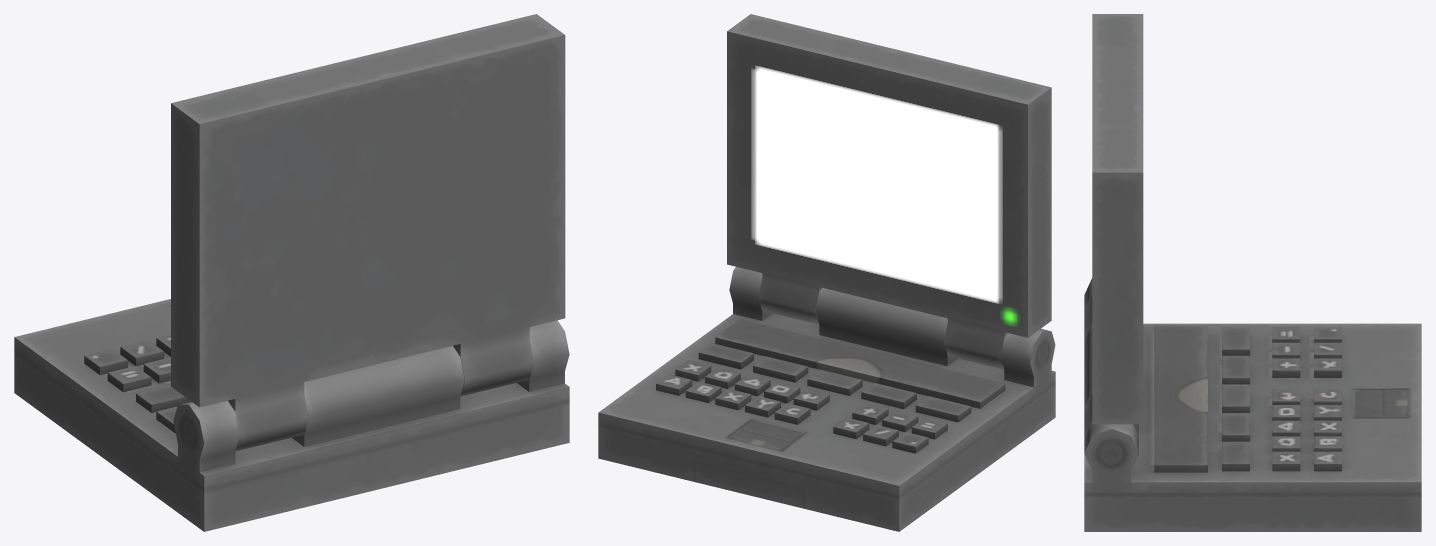
The model's file is Pfb_Computer__2.fbx.
The picture shows the model from 3 angles, left to right: view 1: azimuth 30°, elevation 25°; view 2: azimuth 150°, elevation 25°; view 3: azimuth 270°, elevation 25°; orthographic projection. The views are drawn at different scales.
Visible parts, largest first — view 1: Mat_Computer_01_01; view 2: Mat_Computer_01_01; view 3: Mat_Computer_01_01.
Part boxes in pixels (x1,y1,x2,y2): Mat_Computer_01_01: [14, 14, 569, 531]; Mat_Computer_01_01: [598, 14, 1055, 531]; Mat_Computer_01_01: [1084, 14, 1421, 531].
Bounding box in the file's own units: 0.4671 × 0.4936 × 0.42.
Materials: 1 (1 with a texture image).
